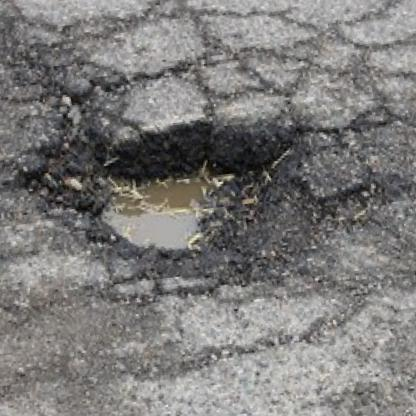pothole: (14, 102, 312, 308)
